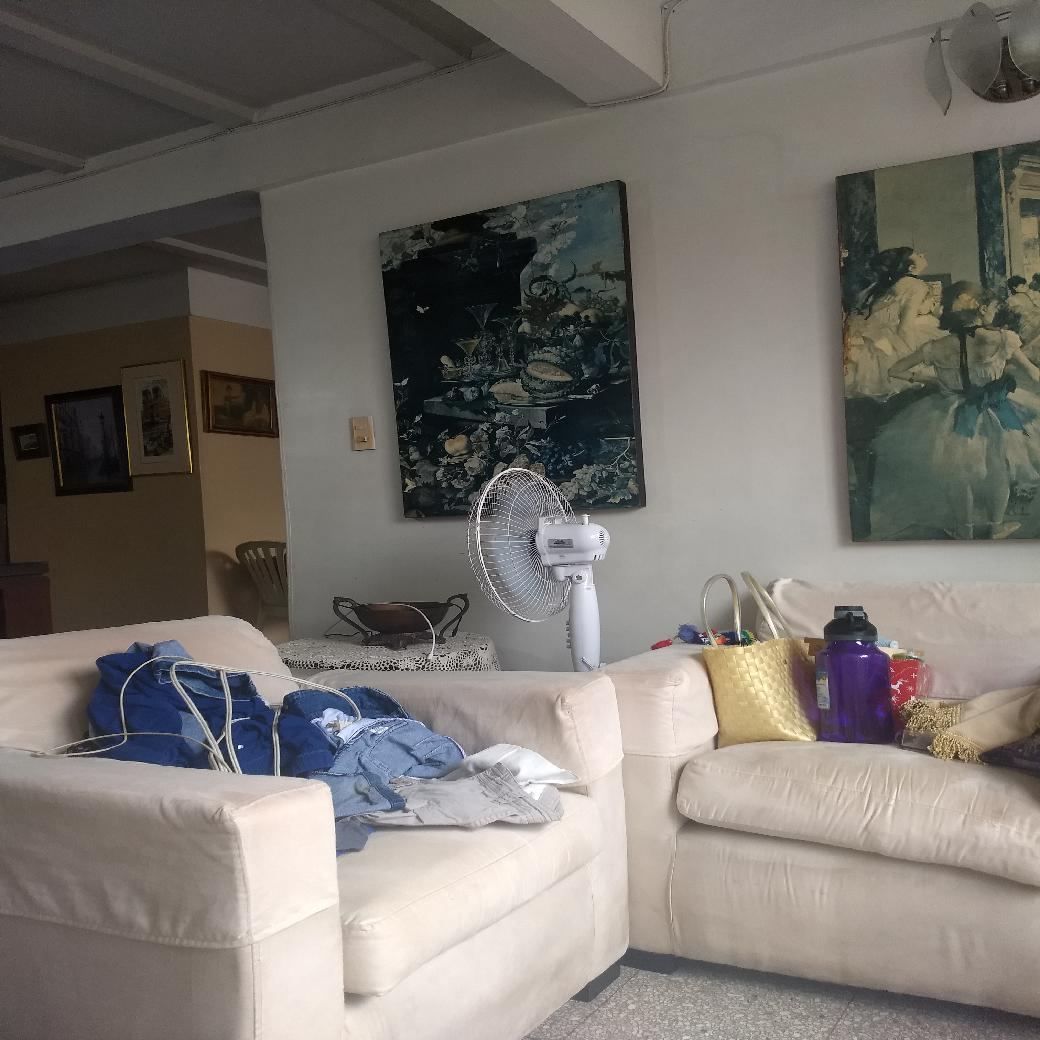ventilador: (467, 453, 616, 638)
